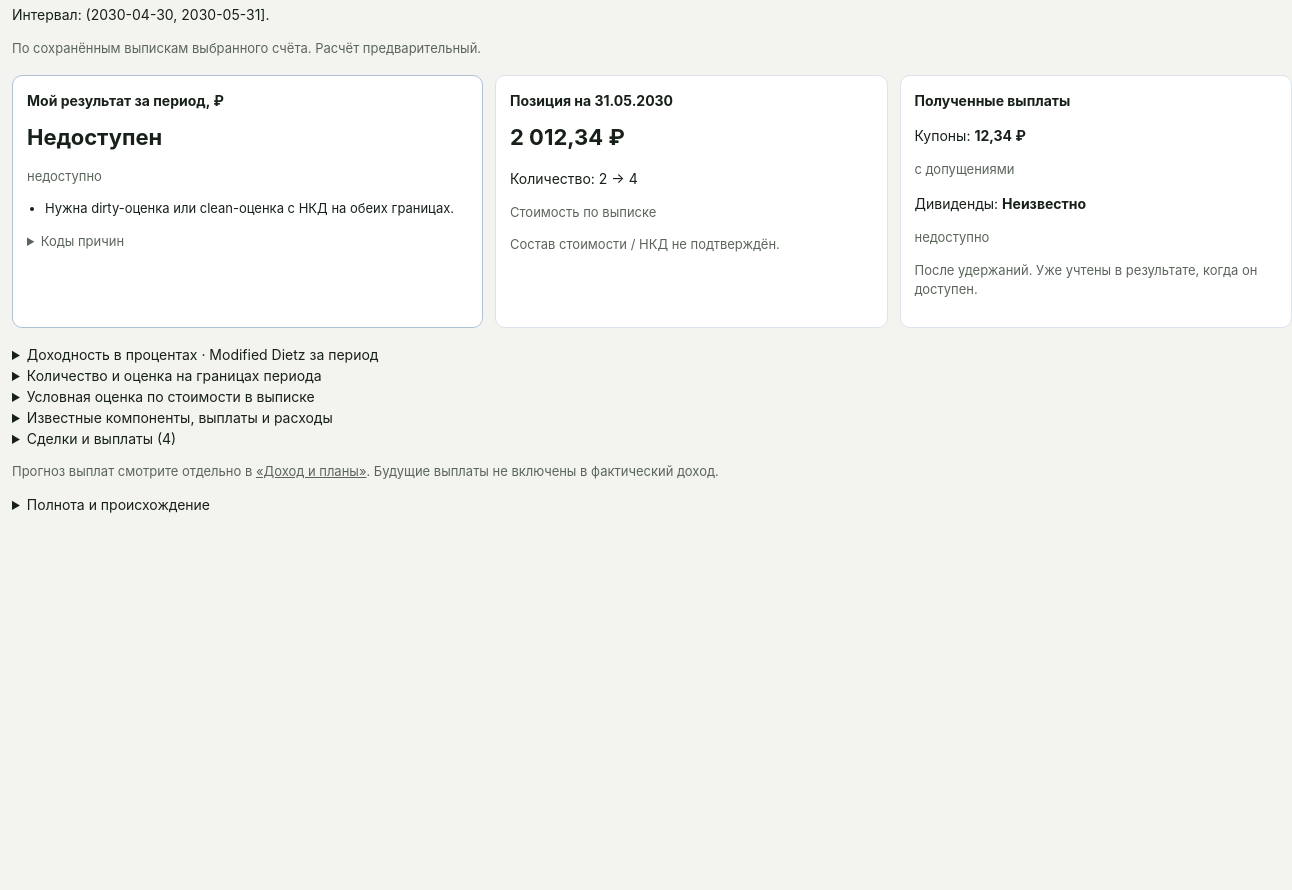
Test: history reveals separate buy prices, partial sale, actual coupon, NKD, costs and provenance
Expected: the text "Недоступен" is shown, [27, 124, 162, 150]
Click the heading "Сделки и выплаты (4)". click: (102, 438)
box: [27, 430, 176, 446]
(page scrolled)
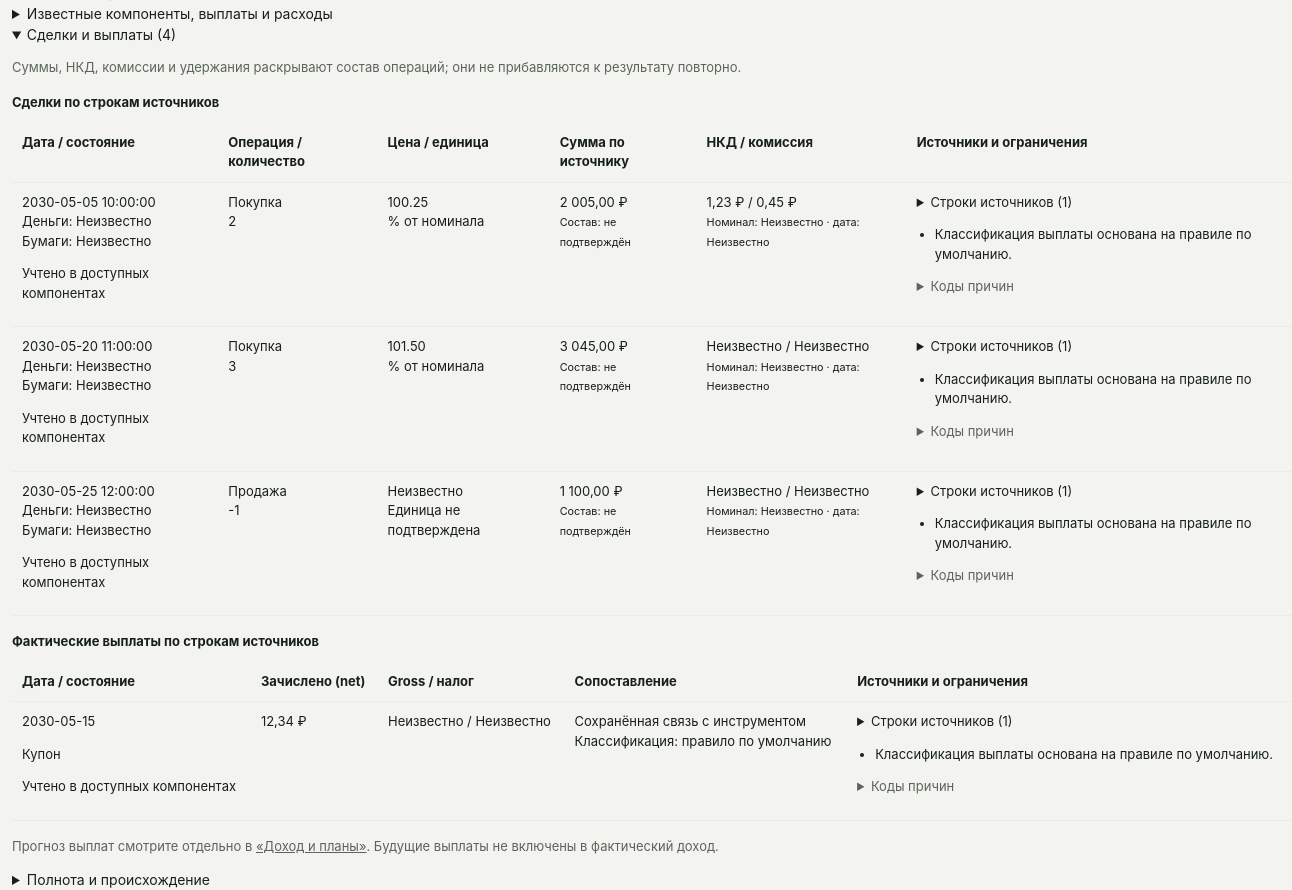
Expected: the text "Покупка" is shown 2 times, [228, 194, 282, 210]; [228, 338, 282, 354]
Expected: the text "Продажа" is shown, [228, 482, 287, 498]
Expected: the text "100.25" is shown, [388, 194, 428, 210]
Click the heading "Строки источников (1)" in the row of "2030-05-15". click: (942, 721)
box: [871, 713, 1013, 729]
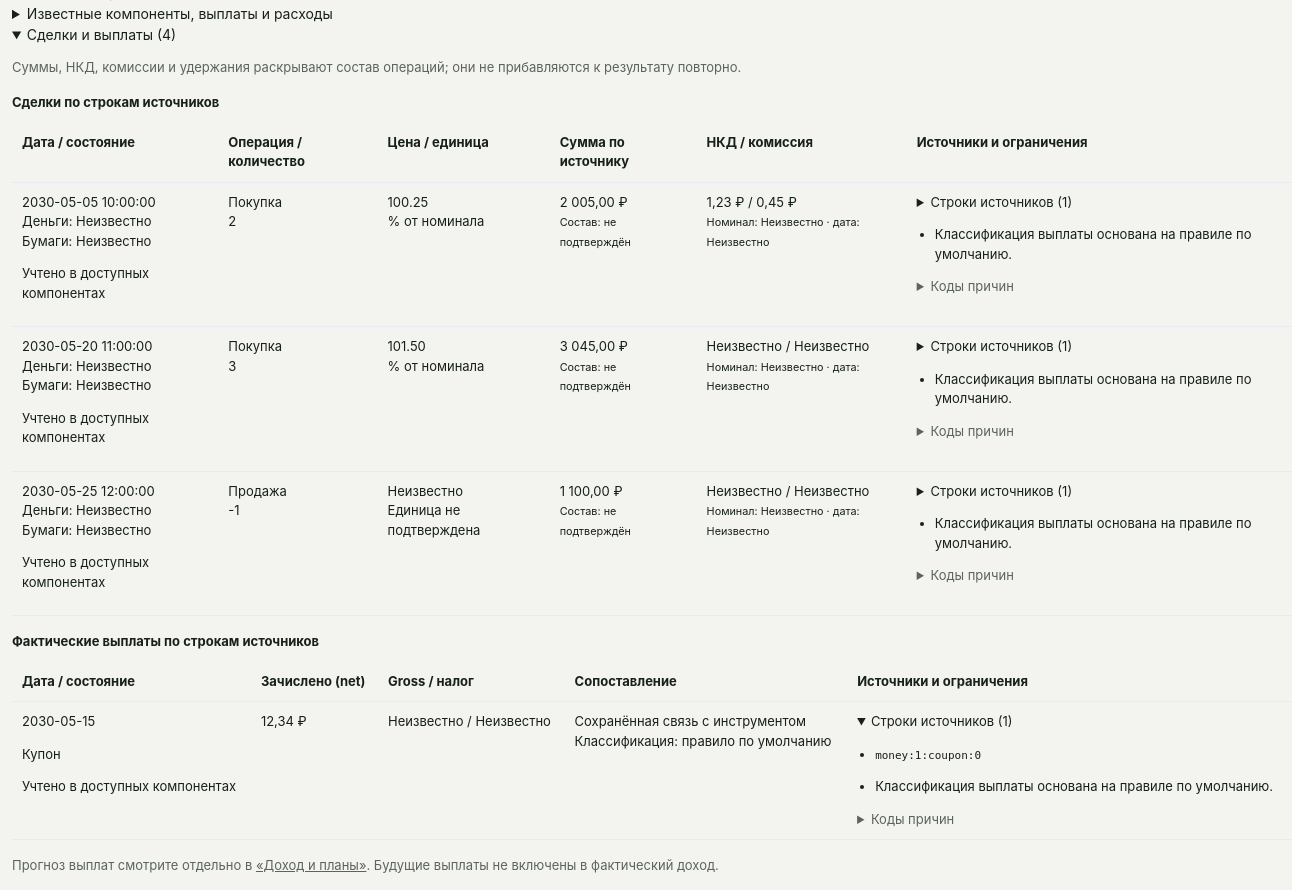
Expected: the text "money:1:coupon:0" is shown, [875, 748, 981, 762]
